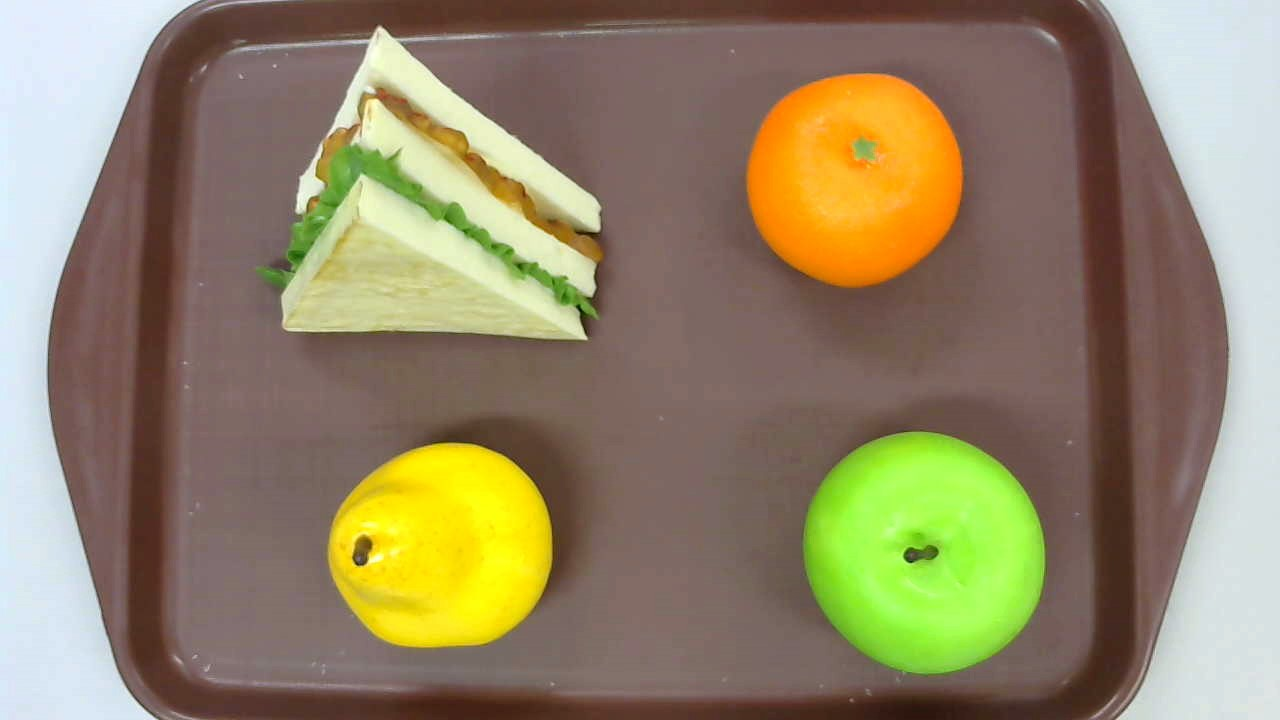green apple: (803, 431, 1043, 673)
orange: (747, 72, 964, 289)
sandwich: (254, 26, 609, 343)
yellow pear: (327, 441, 553, 644)
